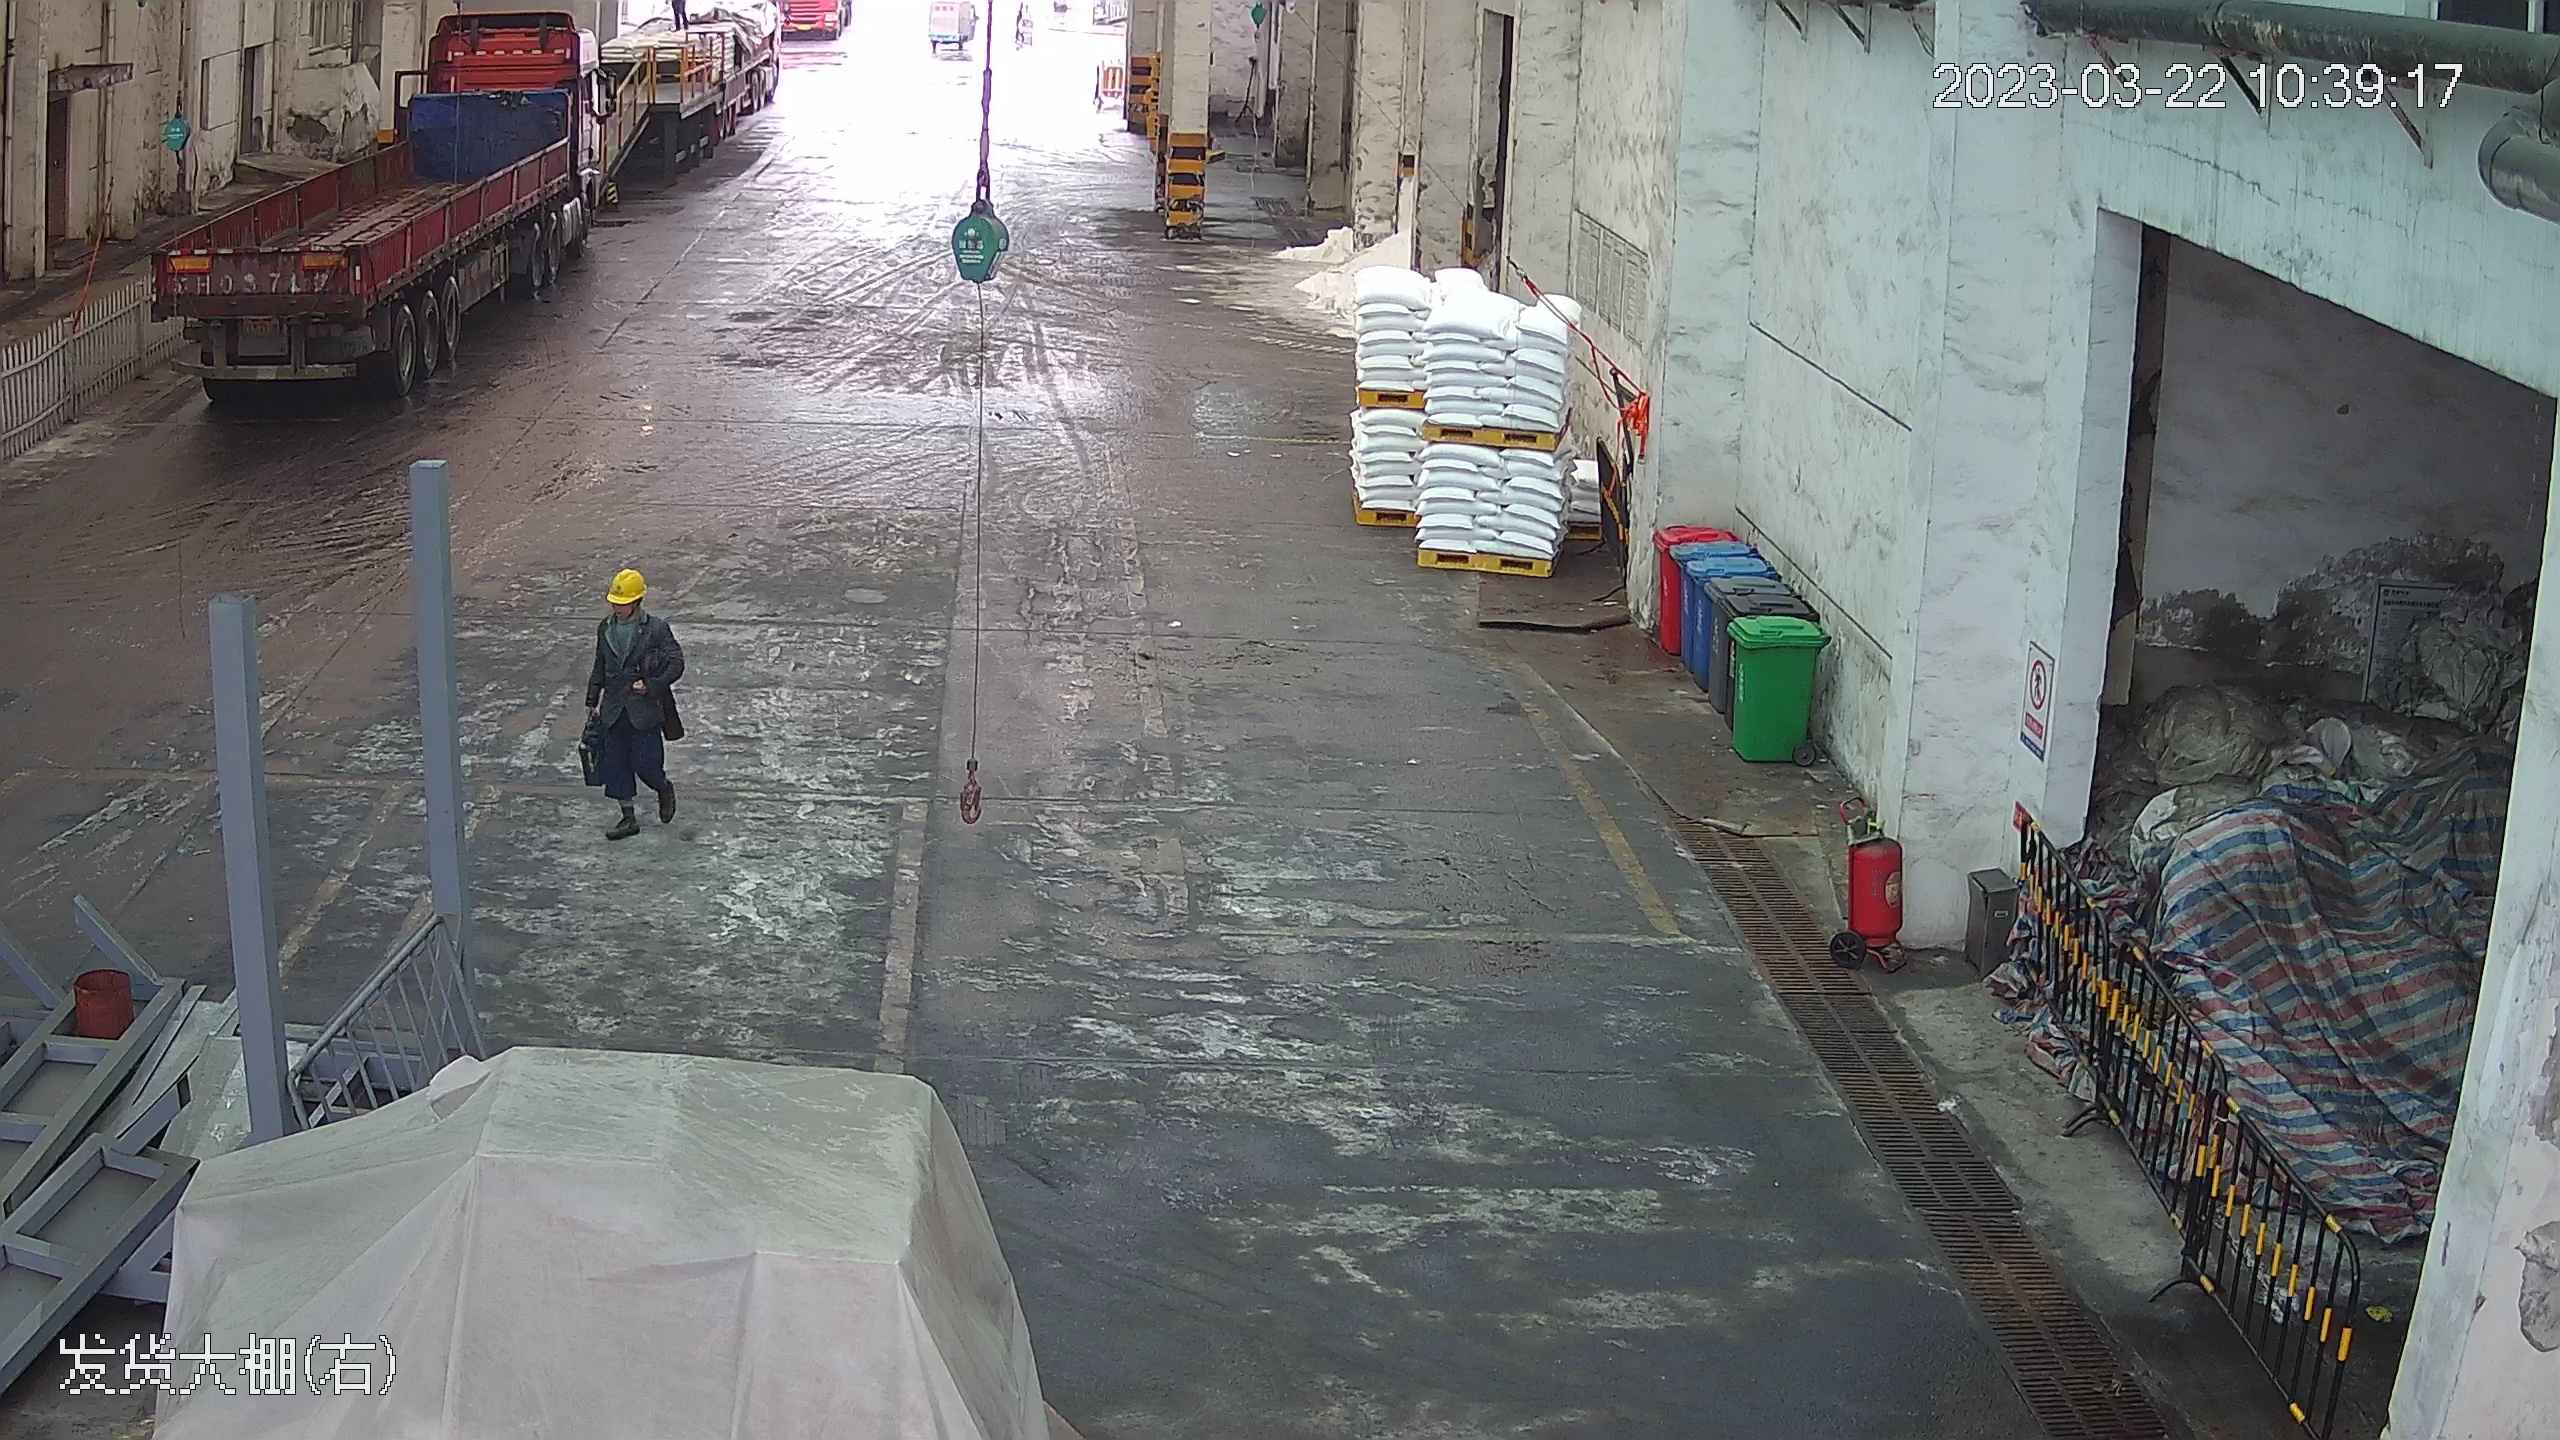head: (592, 565, 679, 657)
helmet: (605, 564, 651, 603)
people: (577, 564, 688, 838)
truck: (132, 3, 643, 388)
